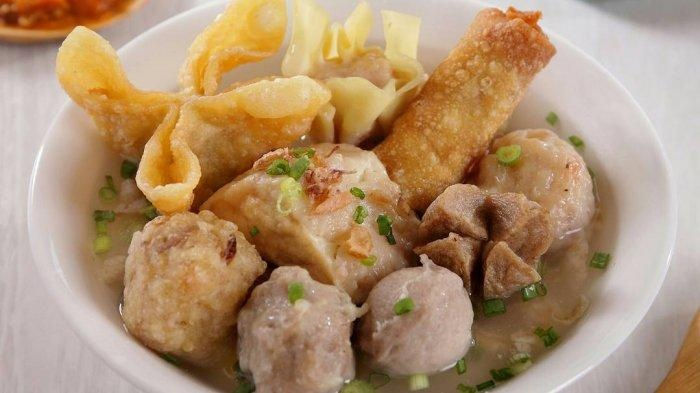bakso_malang: (91, 2, 599, 393)
